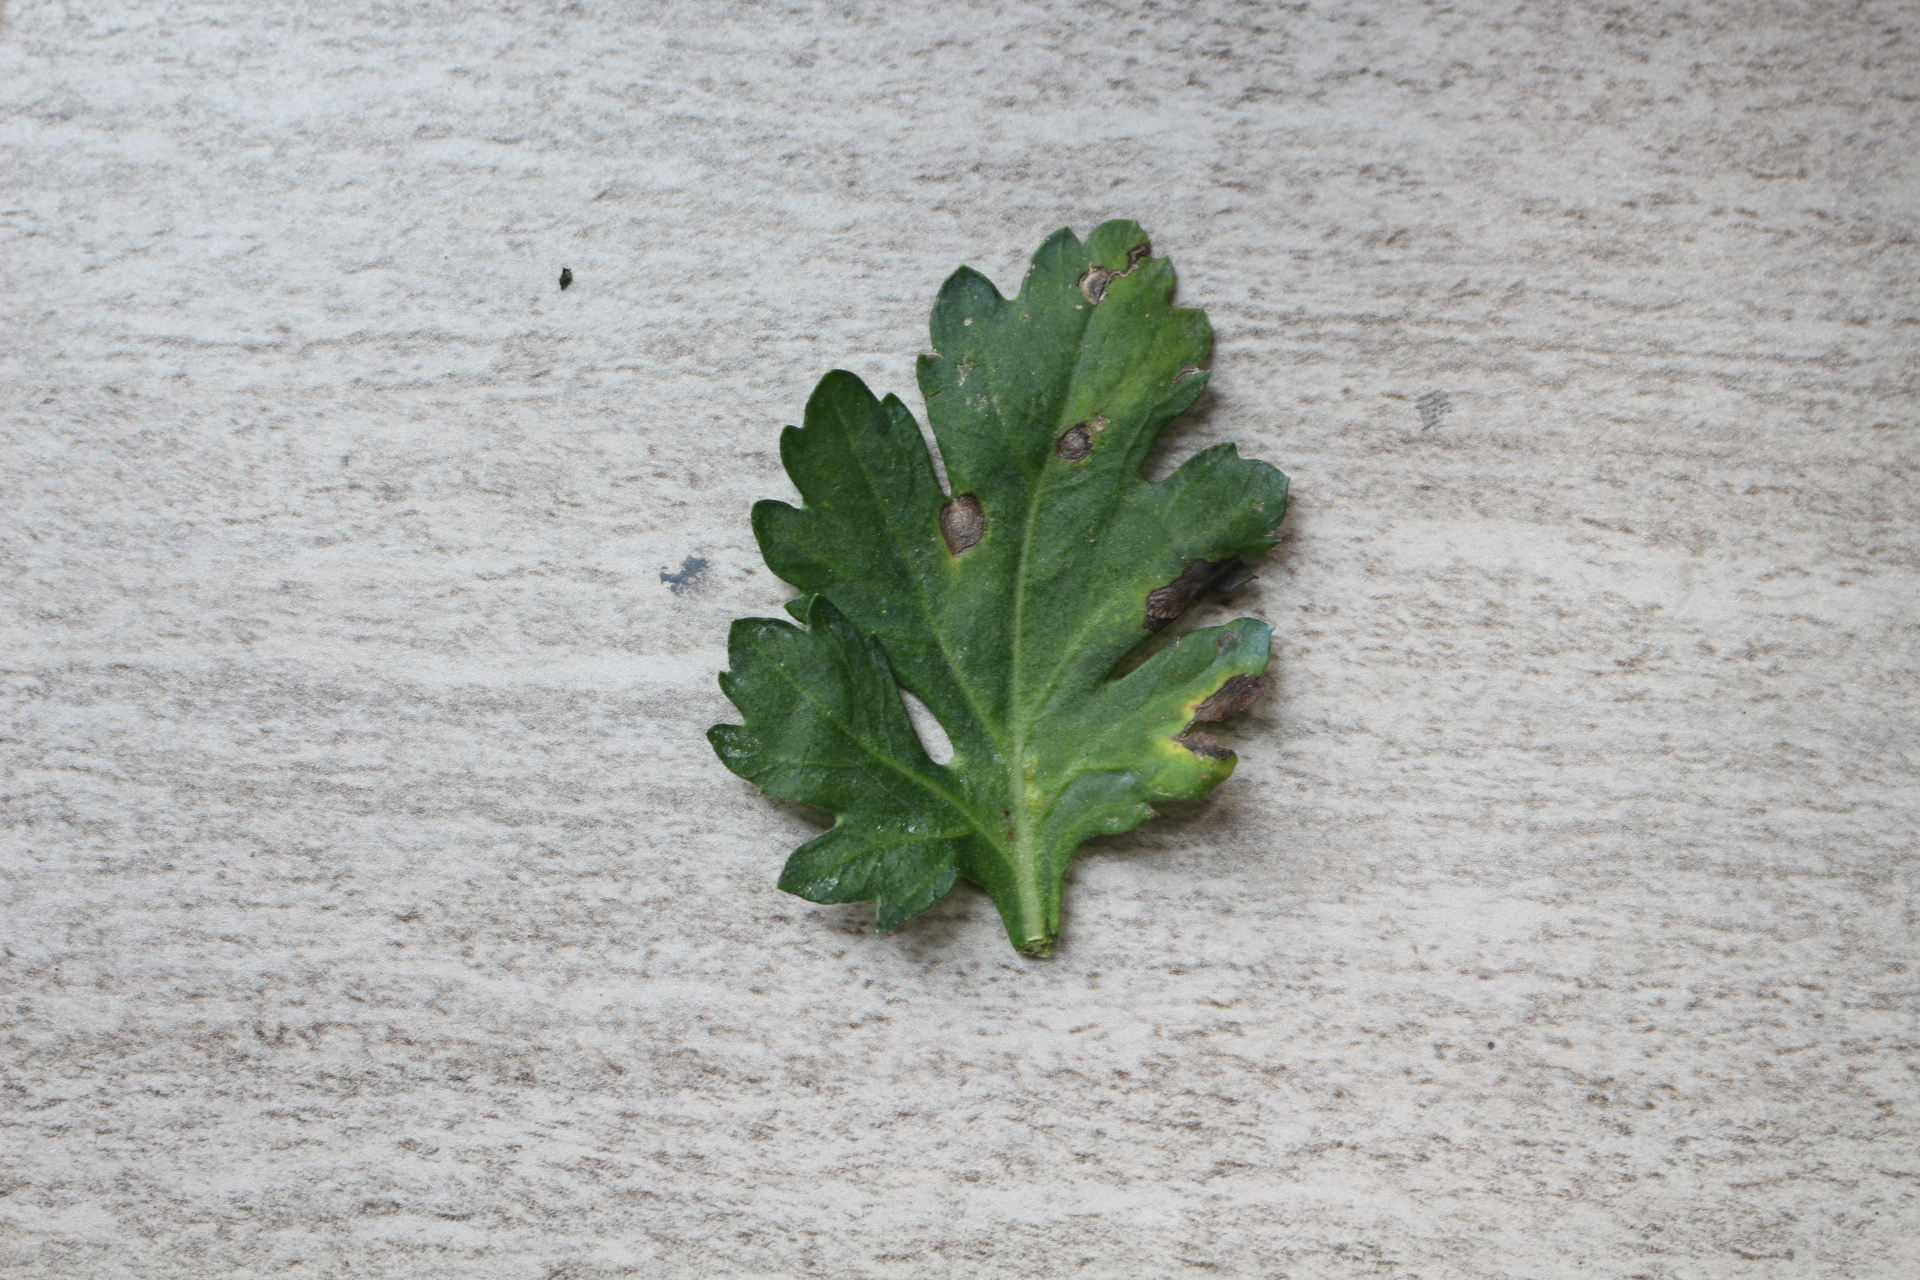namden: (1179, 674, 1256, 767), (1149, 553, 1226, 633), (934, 491, 989, 561), (1054, 420, 1096, 463), (1074, 263, 1113, 303)
